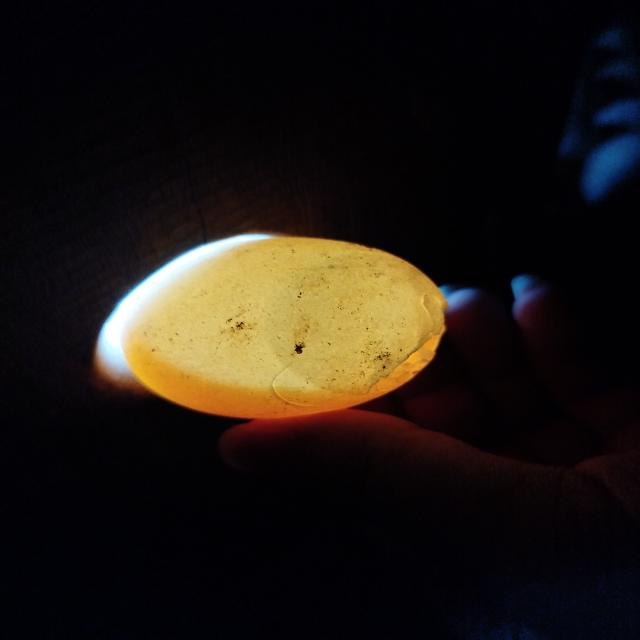Camara de Ar: (266, 254, 419, 391)
Gema Quebrada: (121, 338, 372, 420)
Rachadura: (373, 297, 446, 396)
